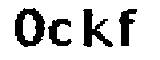0: (14, 6, 46, 48)
c: (48, 16, 76, 47)
f: (119, 5, 143, 51)
k: (80, 4, 116, 54)
